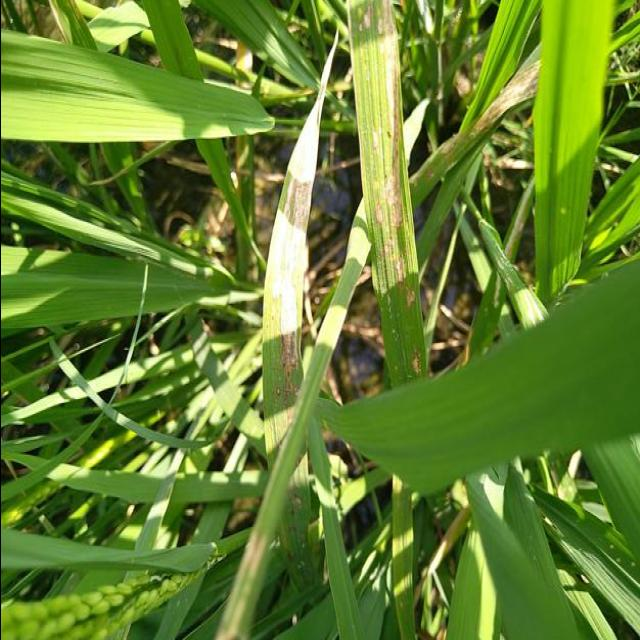Leaf Streak: (346, 0, 428, 391), (262, 67, 326, 453), (474, 48, 541, 133), (280, 456, 319, 569)
